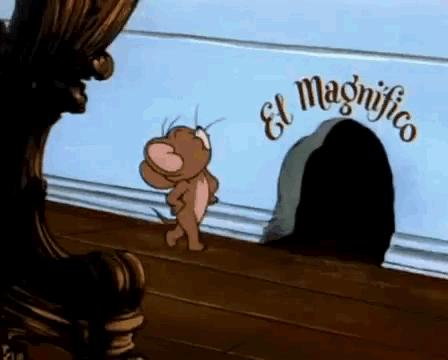jerry: (138, 105, 220, 253)
